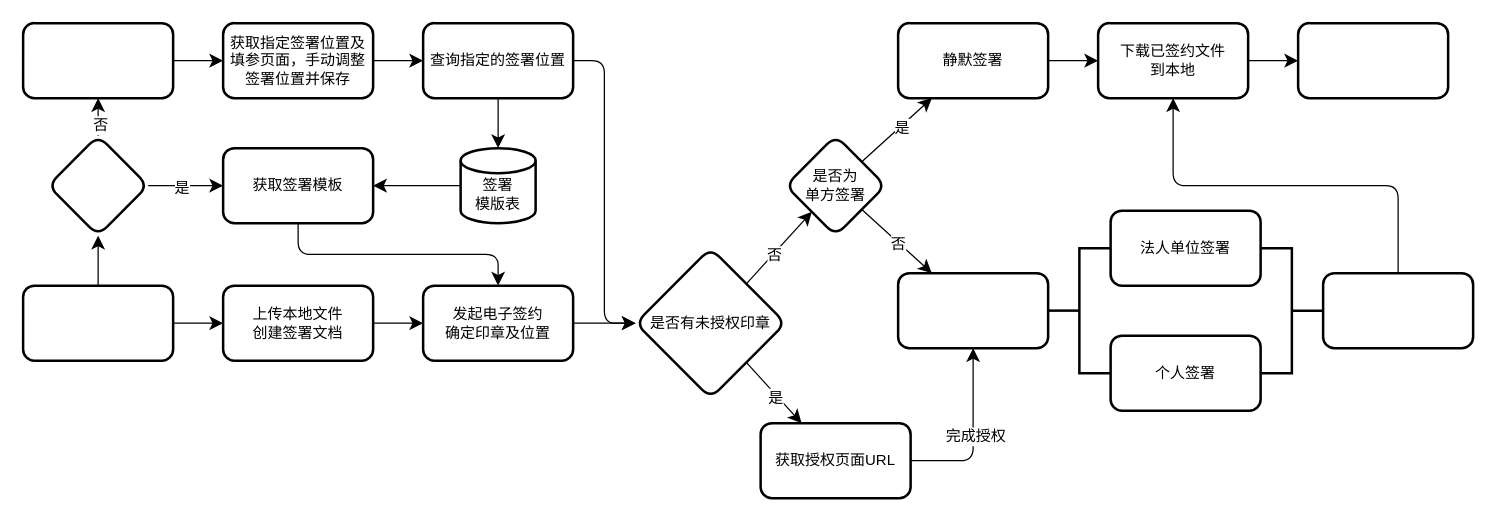
Image size: 1495x520. Some labels were removed from this diagram. The shapes that lost their labels are listed below. From the top down, each one's box as (x1, y1, x2, y2) in pixels, then its label:
(21, 21, 174, 99): 无模板创建电子签约
(1296, 21, 1449, 99): 下载本地文件
(46, 134, 149, 236): 是否有模板
(21, 284, 174, 361): 上传文件到本地
(896, 271, 1049, 349): 查询签约详情
(1321, 271, 1474, 349): 签署完成
